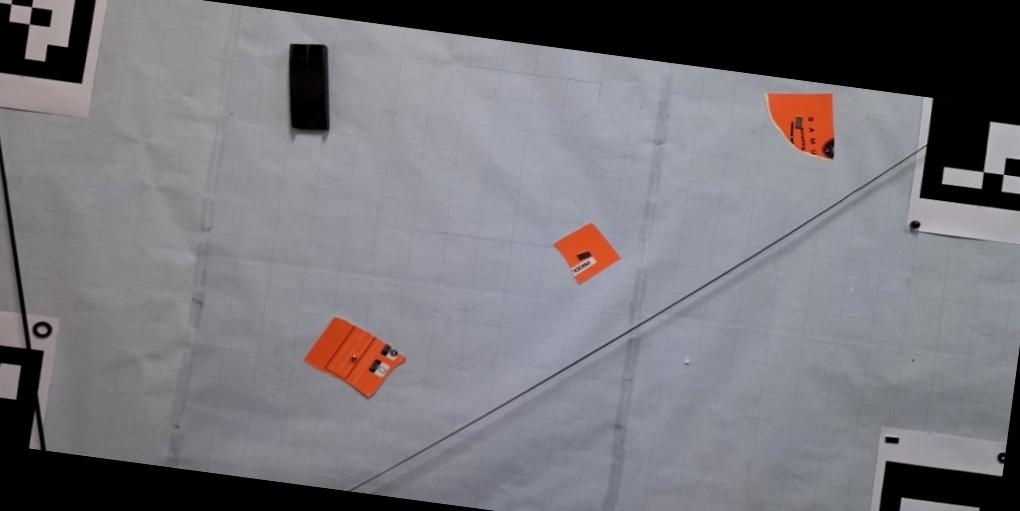obstacle: (304, 316, 407, 399), (766, 92, 836, 161), (553, 222, 622, 283), (289, 45, 329, 133)
